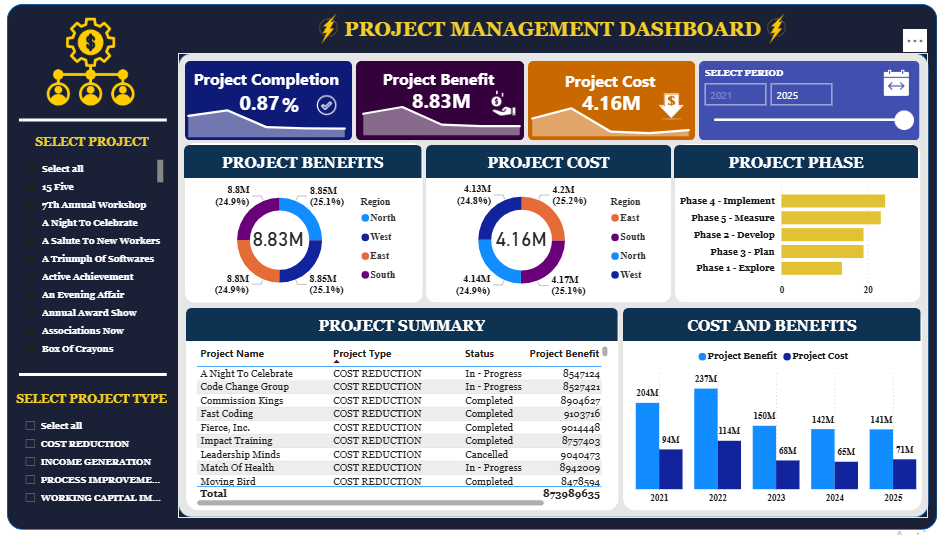

The dashboard page shown, as its layout file describes it:
{"tool":"powerbi","page":{"name":"Report","canvas":[1280,720],"ordinal":0},"visuals":[{"type":"shape","box":[20.6,10.3,1240.5,701],"z":0},{"type":"shape","box":[247.7,76.3,1000.8,619.2],"z":1000},{"type":"shape","box":[257.1,86.5,222.9,105.7],"z":2000},{"type":"shape","box":[942.9,86.5,294.3,105.7],"z":3000},{"type":"shape","box":[258.6,415.7,577.1,270],"z":4000},{"type":"shape","box":[841.4,415.7,398.6,270],"z":5000},{"type":"shape","box":[910,197.1,327.1,211.4],"z":6000},{"type":"shape","box":[578.6,198.6,327.1,210],"z":7000},{"type":"shape","box":[257,196,317,213],"z":8000},{"type":"shape","box":[485.7,87.1,224.3,105.7],"z":9000},{"type":"shape","box":[714.3,86.5,222.9,105.7],"z":10000},{"type":"shape","box":[256.5,198.1,317.1,44.3],"z":11000},{"type":"shape","box":[578.6,198.6,327.1,44.3],"z":12000},{"type":"shape","box":[909.7,198.1,325.7,44.3],"z":13000},{"type":"shape","box":[841.4,416.1,397.1,44.3],"z":14000},{"type":"shape","box":[258.6,416.1,575.7,44.3],"z":15000},{"type":"textbox","box":[458.6,24.3,578.6,40],"z":16000},{"type":"image","box":[418.6,18.6,60,50],"z":17000},{"type":"image","box":[1015.7,18.6,60,50],"z":18000},{"type":"image","box":[68.6,24.3,127.1,127.1],"z":19000},{"type":"slicer","fields":{"Values":["Project+Management+Dataset.Project Name"]},"box":[33.3,213,200,278.7],"z":20000},{"type":"slicer","fields":{"Values":["Project+Management+Dataset.Project Type"]},"box":[32,556,200,130.7],"z":21000},{"type":"textbox","box":[33.3,179.7,200,33.3],"z":22000},{"type":"textbox","box":[18.7,522.7,228,33.3],"z":23000},{"type":"shape","box":[36,117.3,197.3,96],"z":24000},{"type":"shape","box":[36,494.7,197.3,20],"z":25000},{"type":"card","fields":{"Values":["Calculated Measure.Average_Completion"]},"box":[305.7,115.7,102.9,54.3],"z":26000,"group":"g1"},{"type":"card","fields":{"Values":["Calculated Measure.Average_Benefit"]},"box":[550,118.6,97.1,42.9],"z":27000},{"type":"card","fields":{"Values":["Calculated Measure.Average_cost"]},"box":[777.1,121.4,97.1,42.9],"z":28000},{"type":"donutChart","fields":{"Y":["Calculated Measure.Average_Benefit"],"Category":["Project+Management+Dataset.Region"]},"box":[270,242.9,288.6,165.7],"z":29000},{"type":"donutChart","fields":{"Category":["Project+Management+Dataset.Region"],"Y":["Calculated Measure.Average_cost"]},"box":[582.9,242.9,310,165.7],"z":30000},{"type":"clusteredBarChart","fields":{"Y":["CountNonNull(Project+Management+Dataset.Phase)"],"Category":["Project+Management+Dataset.Phase"]},"box":[910,242.9,325.7,165.7],"z":31000},{"type":"clusteredColumnChart","fields":{"Category":["Project+Management+Dataset.Year"],"Y":["Sum(Project+Management+Dataset. Project Benefit )","Sum(Project+Management+Dataset. Project Cost )"]},"box":[852.9,461.4,384.3,224.3],"z":32000},{"type":"tableEx","fields":{"Values":["Project+Management+Dataset.Project Name","Project+Management+Dataset.Project Type","Project+Management+Dataset.Status","Sum(Project+Management+Dataset. Project Benefit )","Sum(Project+Management+Dataset. Project Cost )"]},"box":[267.1,461.4,560,224.3],"z":33000},{"type":"slicer","fields":{"Values":["Project+Management+Dataset.Start Date.Variation.Date Hierarchy.Year"]},"box":[937.1,90,300,94.3],"z":34000},{"type":"card","fields":{"Values":["Calculated Measure.Average_Benefit"]},"box":[338.6,298.6,85.7,47.1],"z":35000},{"type":"textbox","box":[381.4,120,50,50],"z":36000,"group":"g1"},{"type":"textbox","box":[264.3,90,212.9,42.9],"z":37000},{"type":"group","id":"g1","title":"Group 1","box":[305.7,115.7,125.7,54.3],"z":37001},{"type":"textbox","box":[515.7,90,165.7,42.9],"z":37002},{"type":"textbox","box":[758.6,92.9,132.9,42.9],"z":37003},{"type":"areaChart","fields":{"Category":["Project+Management+Dataset.Start Date.Variation.Date Hierarchy.Year"],"Y":["Sum(Project+Management+Dataset.Completion%)"]},"box":[247.1,132.9,238.6,60],"z":37004},{"type":"areaChart","fields":{"Category":["Project+Management+Dataset.Start Date.Variation.Date Hierarchy.Year"],"Y":["Sum(Project+Management+Dataset. Project Benefit )"]},"box":[480,130,238.6,60],"z":37005},{"type":"areaChart","fields":{"Category":["Project+Management+Dataset.Start Date.Variation.Date Hierarchy.Year"],"Y":["Sum(Project+Management+Dataset. Project Cost )"]},"box":[705.7,131.4,238.6,60],"z":37006},{"type":"card","fields":{"Values":["Calculated Measure.Average_cost"]},"box":[662.9,298.6,85.7,47.1],"z":37007},{"type":"image","box":[657.1,121.4,48.6,42.9],"z":37008},{"type":"image","box":[418.6,120,54.3,51.4],"z":37009},{"type":"image","box":[882.9,121.4,45.7,50],"z":37010},{"type":"image","box":[1182.9,92.9,45.7,45.7],"z":37011}]}

Visuals, with their boxes in screenshot pixels (x1, y1, x2, y2), scaled from the page's 1280x720 canvas onto the 944x535 screenshot:
shape: [15,8,930,529]
shape: [183,57,921,517]
shape: [190,64,354,143]
shape: [695,64,912,143]
shape: [191,309,616,510]
shape: [621,309,914,510]
shape: [671,146,912,304]
shape: [427,148,668,304]
shape: [190,146,423,304]
shape: [358,65,524,143]
shape: [527,64,691,143]
shape: [189,147,423,180]
shape: [427,148,668,180]
shape: [671,147,911,180]
shape: [621,309,913,342]
shape: [191,309,615,342]
textbox: [338,18,765,48]
image: [309,14,353,51]
image: [749,14,793,51]
image: [51,18,144,112]
slicer - Project+Management+Dataset.Project Name: [25,158,172,365]
slicer - Project+Management+Dataset.Project Type: [24,413,171,510]
textbox: [25,134,172,158]
textbox: [14,388,182,413]
shape: [27,87,172,158]
shape: [27,368,172,382]
card - Calculated Measure.Average_Completion: [225,86,301,126]
card - Calculated Measure.Average_Benefit: [406,88,477,120]
card - Calculated Measure.Average_cost: [573,90,645,122]
donutChart - Calculated Measure.Average_Benefit x Project+Management+Dataset.Region: [199,180,412,304]
donutChart - Project+Management+Dataset.Region x Calculated Measure.Average_cost: [430,180,659,304]
clusteredBarChart - CountNonNull(Project+Management+Dataset.Phase) x Project+Management+Dataset.Phase: [671,180,911,304]
clusteredColumnChart - Project+Management+Dataset.Year x Sum(Project+Management+Dataset. Project Benefit ): [629,343,912,510]
tableEx - Project+Management+Dataset.Project Name x Project+Management+Dataset.Project Type: [197,343,610,510]
slicer - Project+Management+Dataset.Start Date.Variation.Date Hierarchy.Year: [691,67,912,137]
card - Calculated Measure.Average_Benefit: [250,222,313,257]
textbox: [281,89,318,126]
textbox: [195,67,352,99]
"Group 1" group: [225,86,318,126]
textbox: [380,67,503,99]
textbox: [559,69,657,101]
areaChart - Project+Management+Dataset.Start Date.Variation.Date Hierarchy.Year x Sum(Project+Management+Dataset.Completion%): [182,99,358,143]
areaChart - Project+Management+Dataset.Start Date.Variation.Date Hierarchy.Year x Sum(Project+Management+Dataset. Project Benefit ): [354,97,530,141]
areaChart - Project+Management+Dataset.Start Date.Variation.Date Hierarchy.Year x Sum(Project+Management+Dataset. Project Cost ): [520,98,696,142]
card - Calculated Measure.Average_cost: [489,222,552,257]
image: [485,90,520,122]
image: [309,89,349,127]
image: [651,90,685,127]
image: [872,69,906,103]
